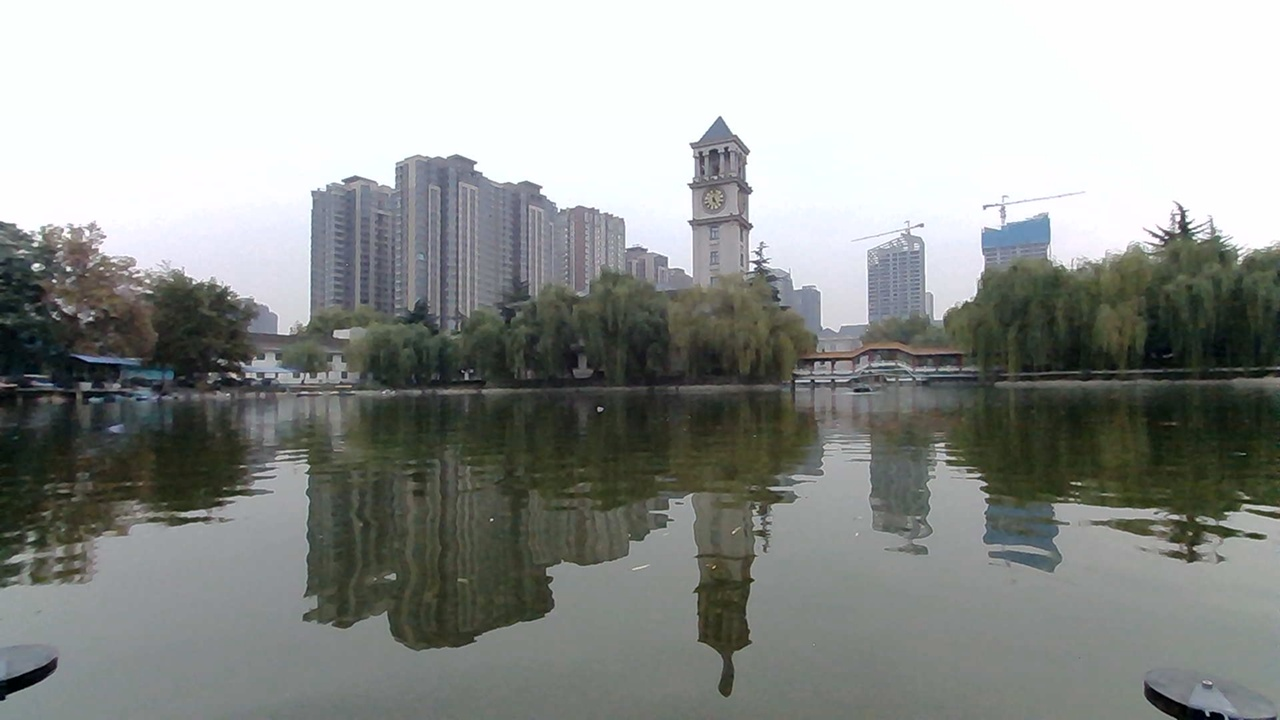bottle: (96, 419, 142, 451), (584, 391, 616, 418)
